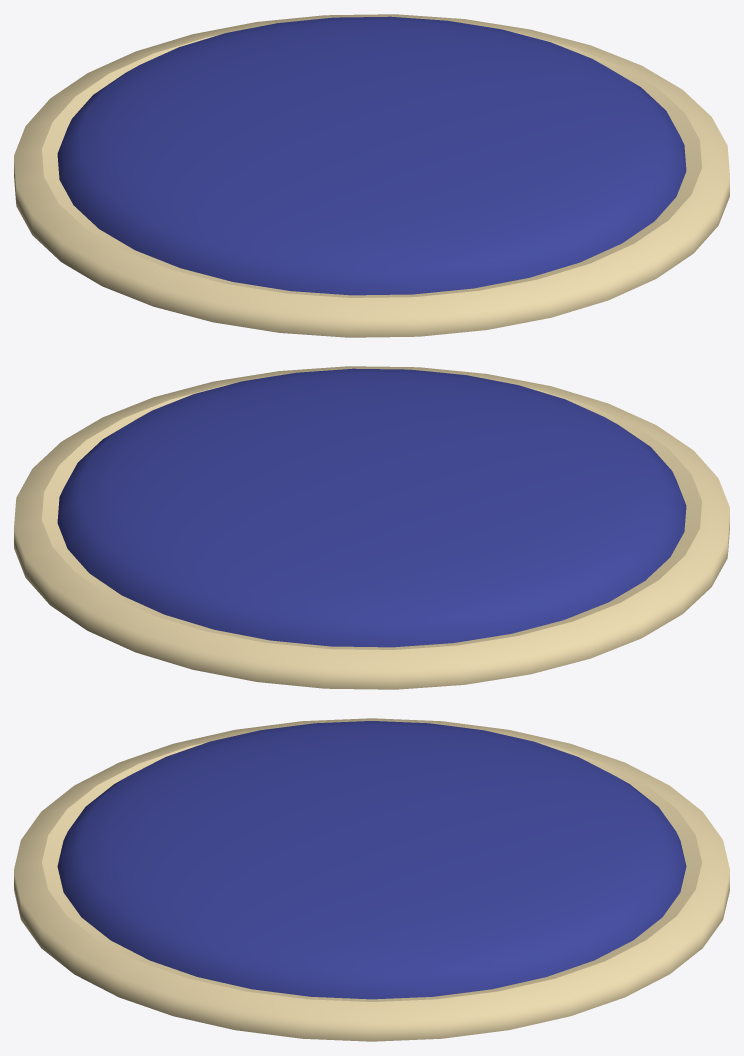
File: map_select_pad.glb
3 renders of one model, top to bottom at view 1: azimuth 30°, elevation 25°; view 2: azimuth 150°, elevation 25°; view 3: azimuth 270°, elevation 25°, orthographic.
Visible parts, largest first — view 1: level_select_pad_mesh; view 2: level_select_pad_mesh; view 3: level_select_pad_mesh.
Boxes of the visible parts, x1,y1,x2,y2 form: level_select_pad_mesh: (14,14,729,337); level_select_pad_mesh: (14,366,729,689); level_select_pad_mesh: (14,718,729,1041).
Size of the model in its own units: 0.9338 by 0.107 by 0.9338.
